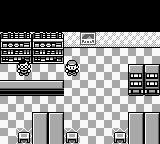leer: (80, 32, 96, 45)
main: (64, 61, 79, 75)
no-caminable: (0, 1, 159, 31), (1, 32, 63, 63), (96, 32, 159, 47), (1, 81, 64, 96), (129, 65, 159, 95), (128, 112, 144, 143), (33, 112, 48, 143), (144, 112, 159, 143), (48, 113, 63, 143), (64, 32, 80, 47)
npc: (16, 60, 31, 75)
